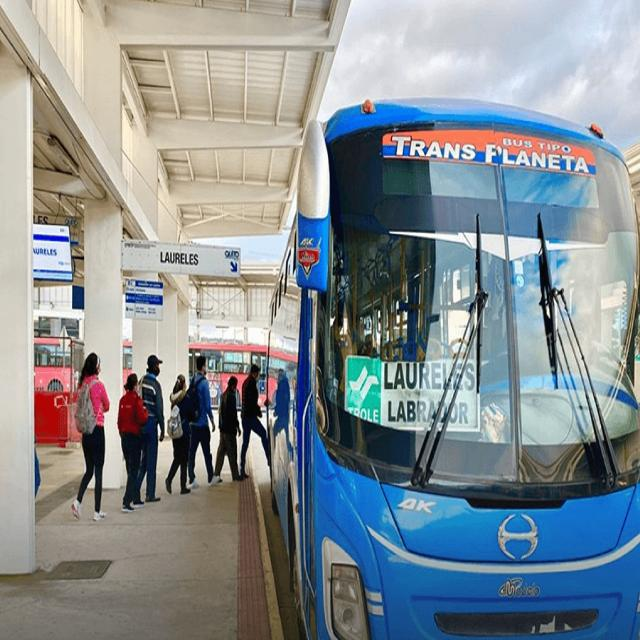BUS: (265, 96, 638, 637)
